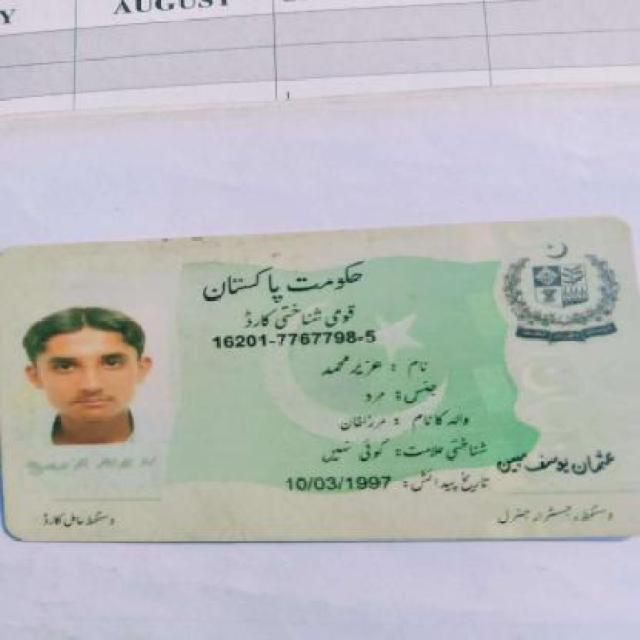Front: (9, 216, 640, 546)
